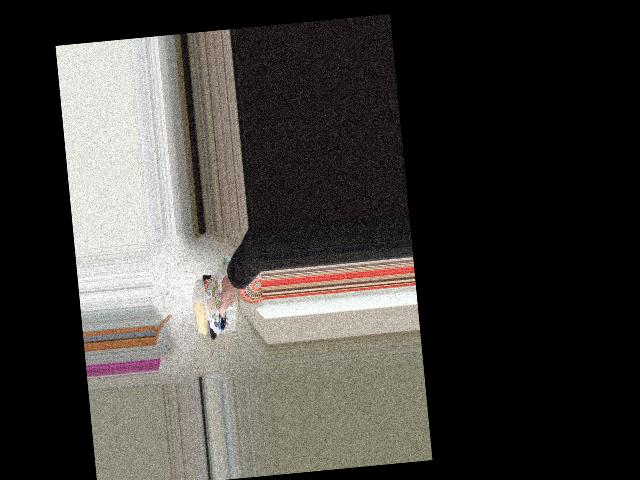cheese: (173, 264, 244, 345)
